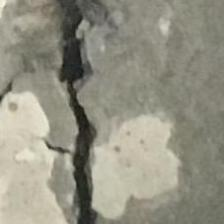Crack: (22, 0, 132, 224)
